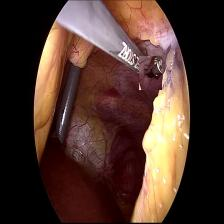Scissors: (139, 56, 162, 90)
